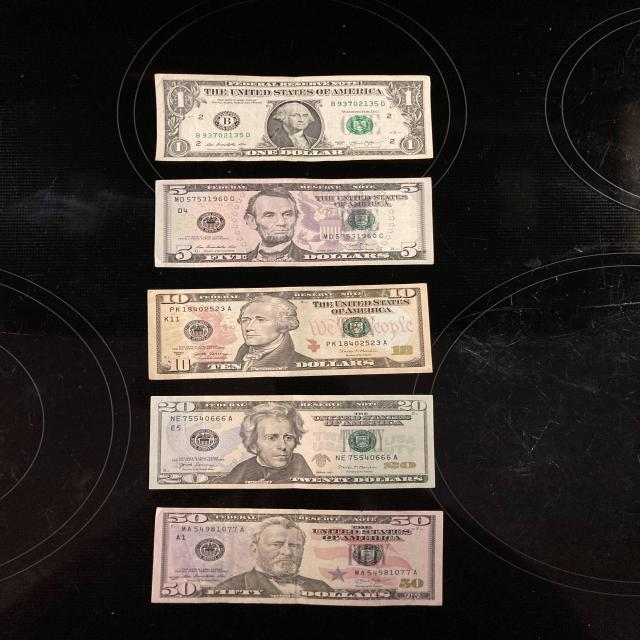fifty: (150, 507, 444, 606)
five: (153, 178, 434, 268)
one: (154, 74, 434, 162)
ten: (146, 282, 432, 380)
twenty: (148, 394, 436, 489)
